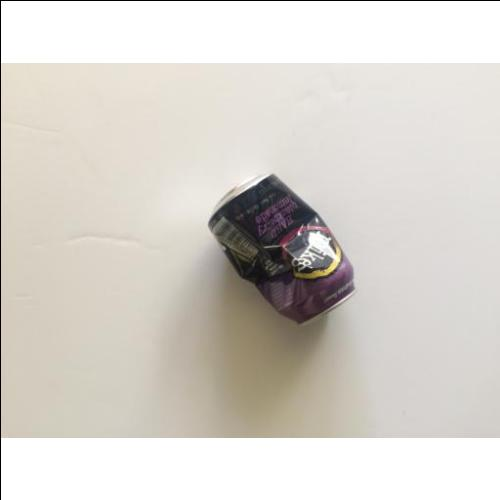metal: (208, 169, 358, 324)
